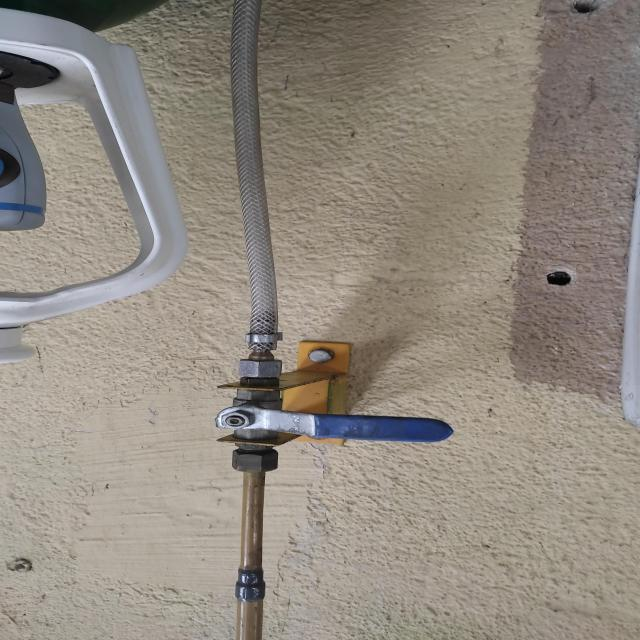closed_valve: (214, 378, 459, 458)
